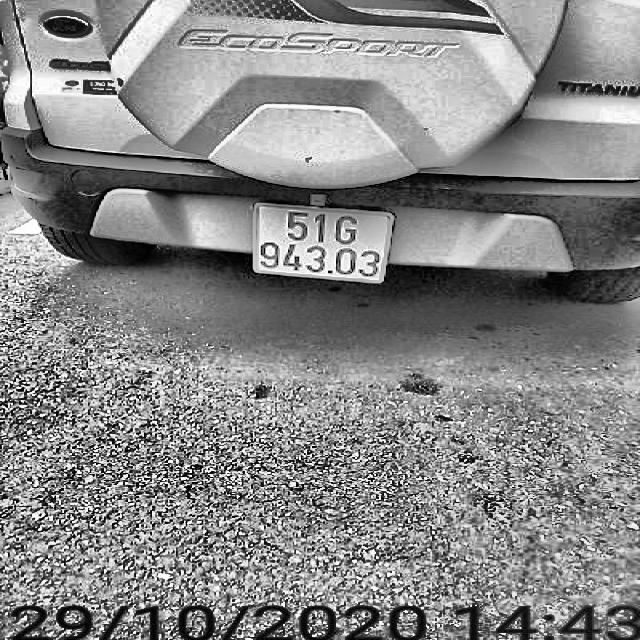plate: (245, 196, 400, 290)
